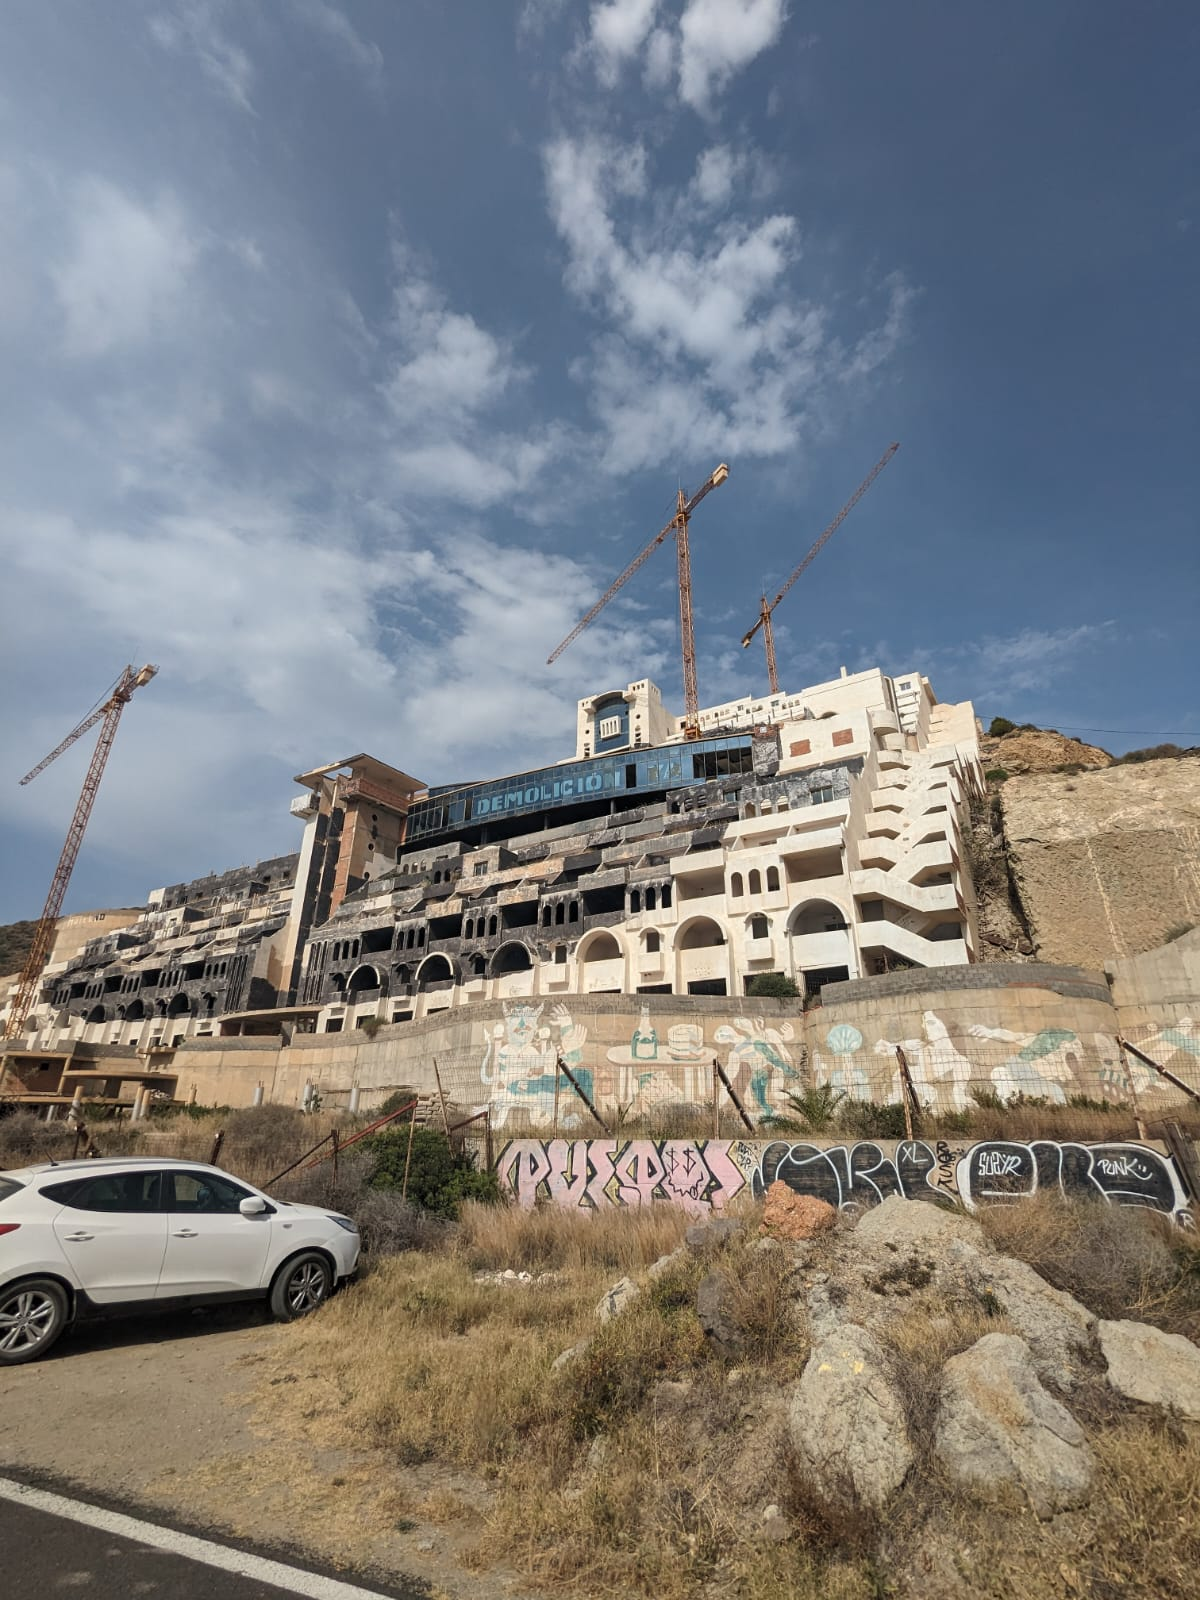car: (1, 1150, 373, 1353)
